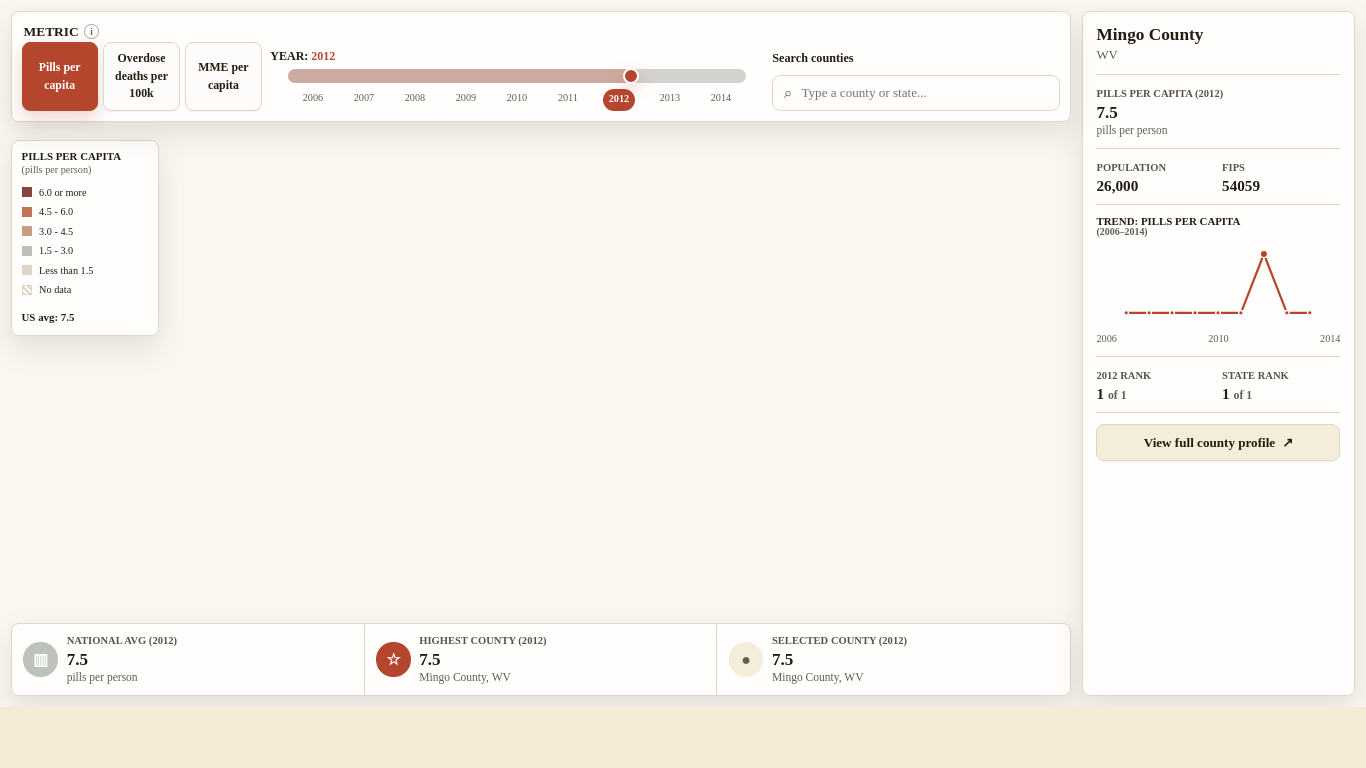
Test: Explorer interactions › keeps real values after switching metrics
The image size is (1366, 768).
Expected: the 1st text "7.5" is shown, [1096,104,1118,122]
Click the button "Overdose deaths per 100k" at point(142, 77), box [103,42,180,111]
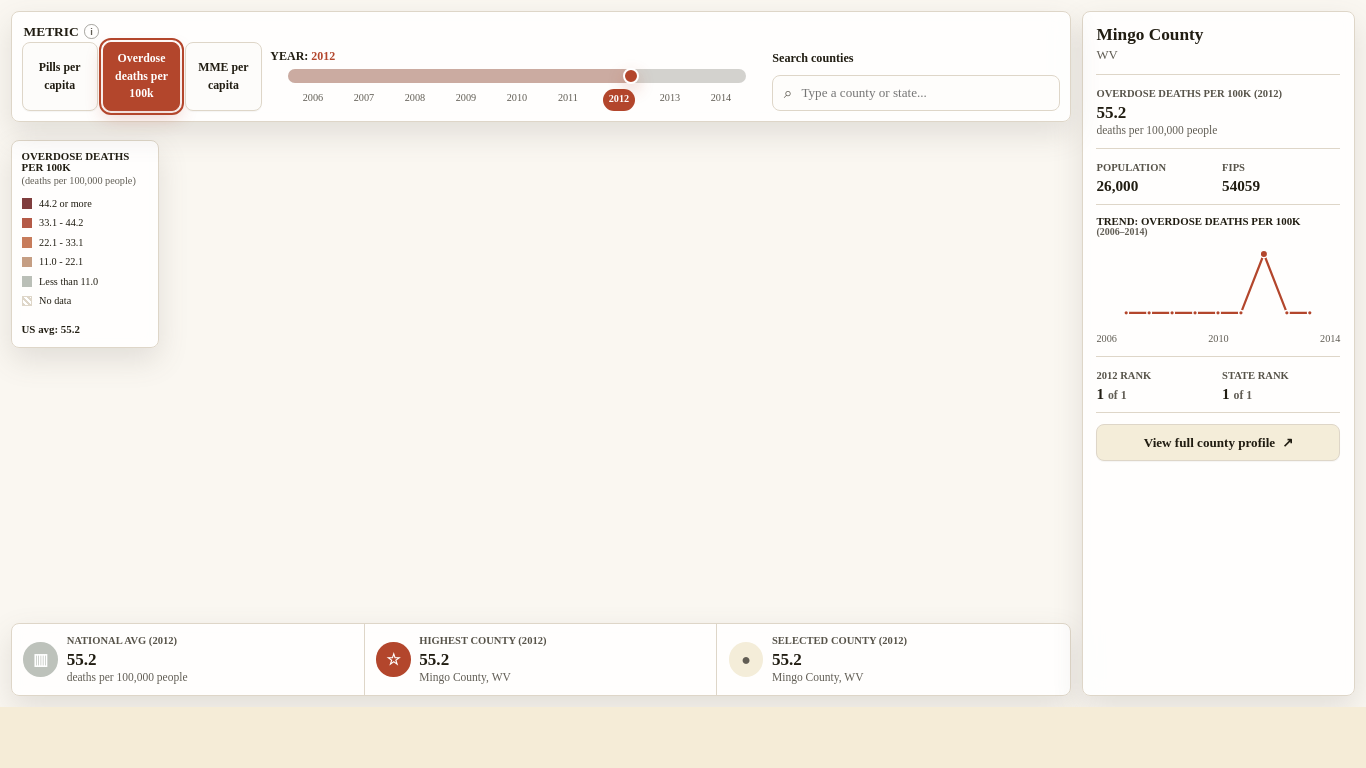
Expected: the 1st text "55.2" is shown, [1096,104,1126,122]
